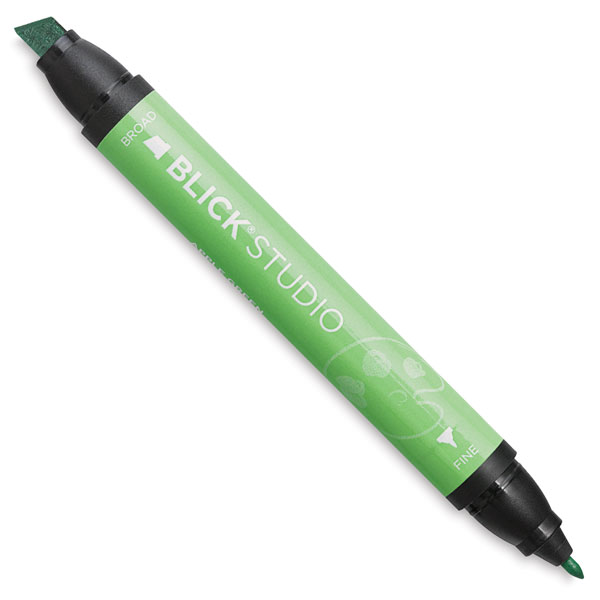Nonrec_Other: (3, 12, 586, 579)
